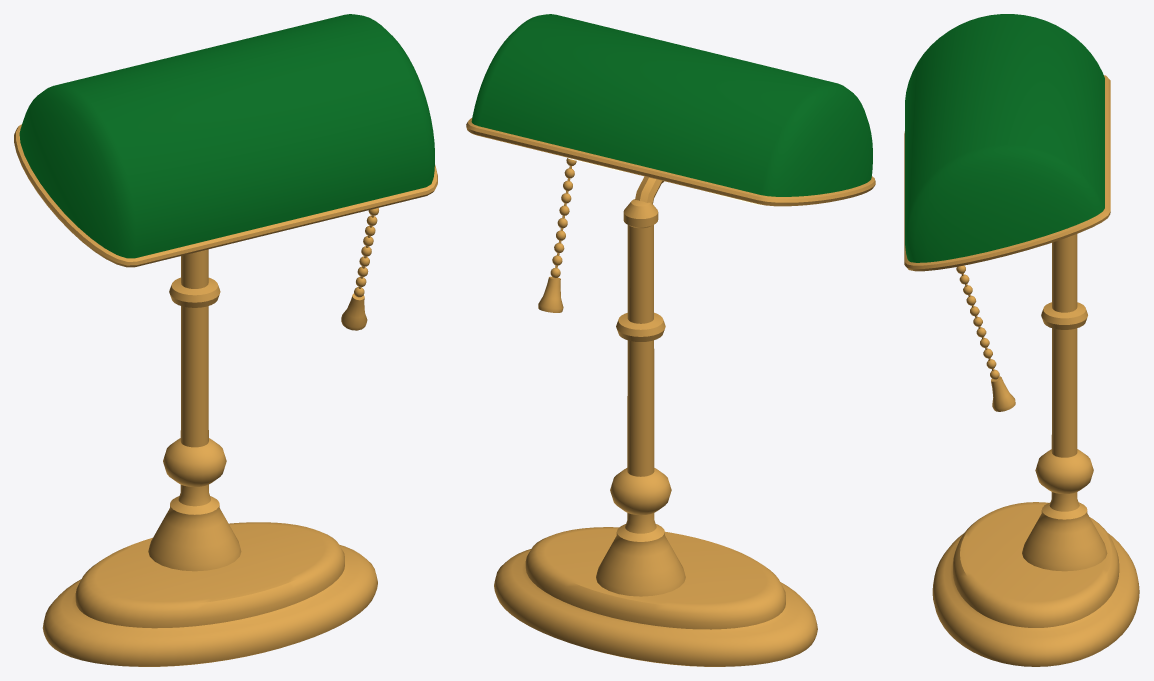
File: banker_lamp.glb
The picture shows the model from 3 angles, left to right: view 1: azimuth 30°, elevation 25°; view 2: azimuth 150°, elevation 25°; view 3: azimuth 270°, elevation 25°; orthographic projection. The views are drawn at different scales.
Parts seen in each view (by area): view 1: Schirm_Glas, Lampenfuss, Schirm_Messing, Kette_Messing; view 2: Schirm_Glas, Lampenfuss, Schirm_Messing, Kette_Messing; view 3: Schirm_Glas, Lampenfuss, Schirm_Messing, Kette_Messing.
Boxes of the visible parts, x1,y1,x2,y2 form: Schirm_Glas: (19, 14, 434, 258); Lampenfuss: (42, 249, 377, 666); Schirm_Messing: (14, 124, 437, 267); Kette_Messing: (341, 208, 378, 330); Schirm_Glas: (471, 14, 872, 196); Lampenfuss: (494, 176, 817, 666); Schirm_Messing: (466, 118, 875, 206); Kette_Messing: (538, 158, 576, 312); Schirm_Glas: (905, 14, 1104, 262); Lampenfuss: (932, 234, 1139, 666); Schirm_Messing: (904, 75, 1110, 271); Kette_Messing: (956, 265, 1015, 411).
Size of the model in its own units: 0.2664 by 0.4022 by 0.1648.
